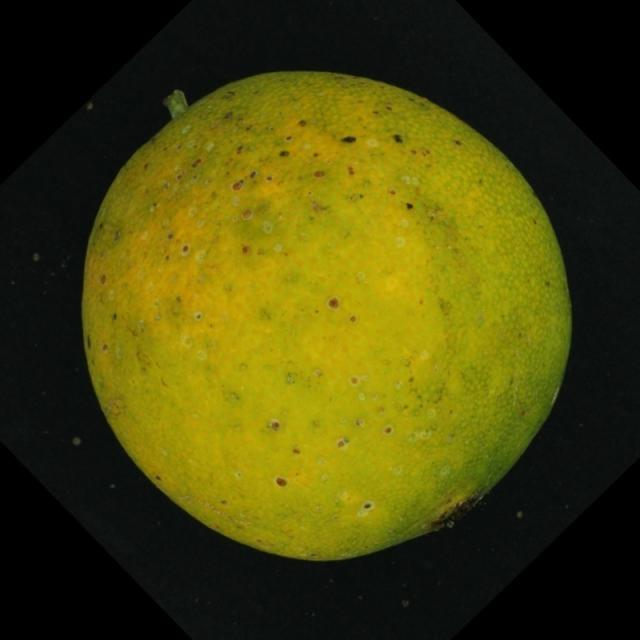grenning: (68, 74, 585, 571)
